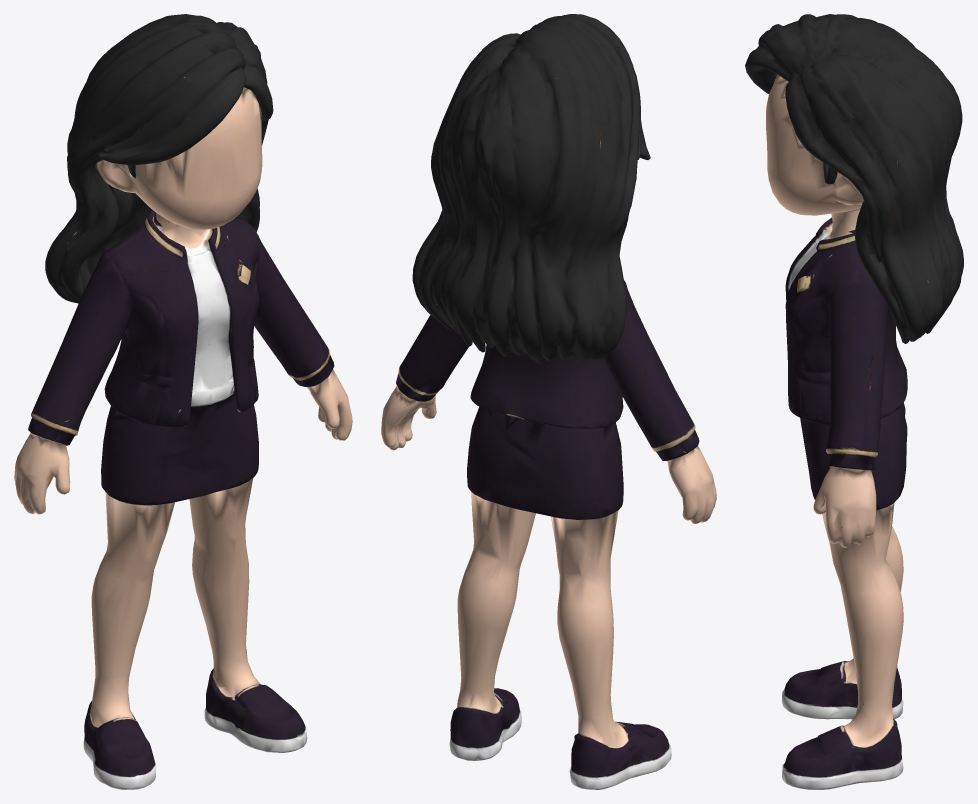
File: female_vip_3d.optimized.glb
The picture shows the model from 3 angles, left to right: view 1: azimuth 30°, elevation 25°; view 2: azimuth 150°, elevation 25°; view 3: azimuth 270°, elevation 25°; orthographic projection.
Size of the model in its own units: 0.8936 by 1.9 by 0.5213.
Materials: 1 (1 with a texture image).
